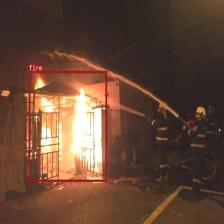fire: (28, 70, 107, 182)
